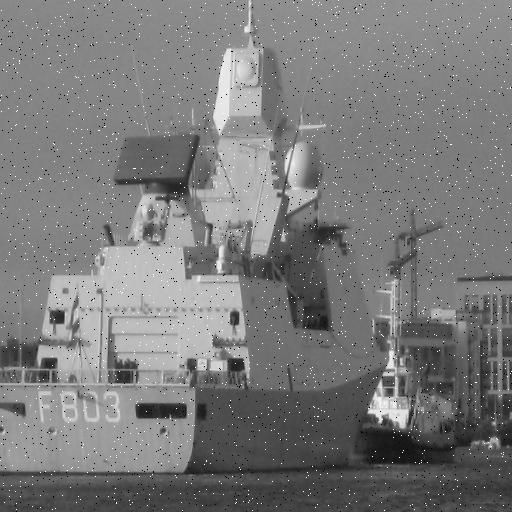Fragata: (1, 1, 407, 480)
